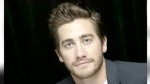male: (47, 5, 117, 80)
